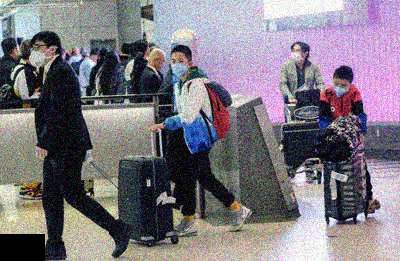with_mask: (28, 43, 50, 67), (170, 57, 187, 77), (333, 80, 351, 97), (290, 47, 304, 62)
